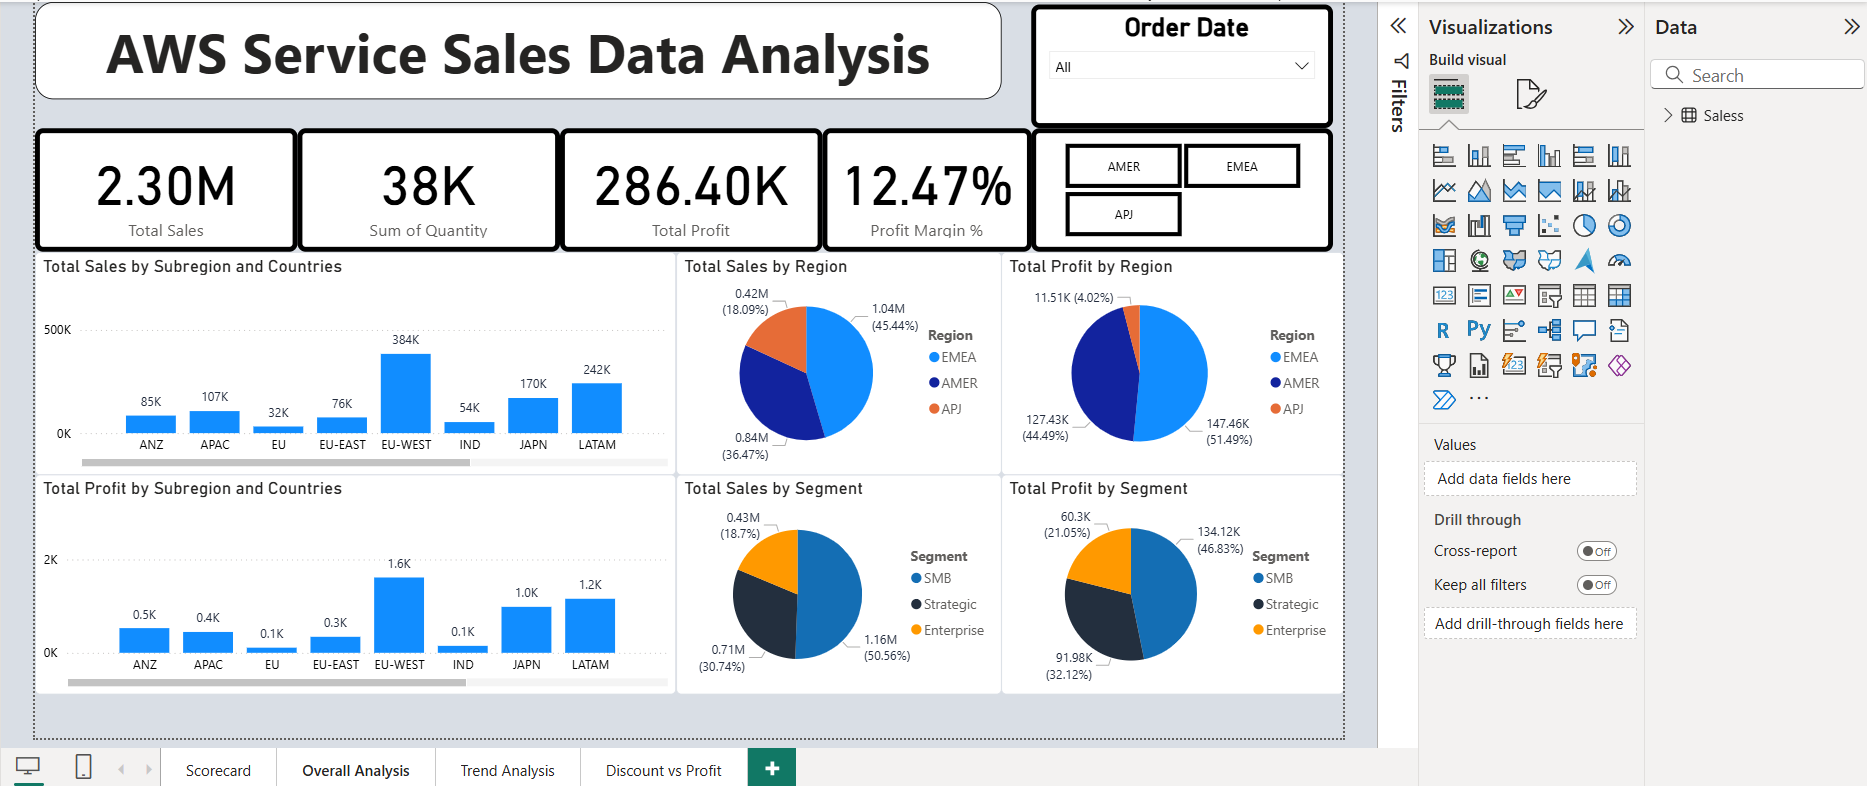

Layout of this report page (visuals, bound fields, positions):
{"tool":"powerbi","page":{"name":"Overall Analysis","canvas":[1280,720],"ordinal":1},"visuals":[{"type":"textbox","box":[0,0,974.3,123.5],"z":0},{"type":"card","title":"Total Sales","fields":{"Values":["Saless.Total Sales"]},"box":[0,123.5,256.6,120.8],"z":1000},{"type":"card","title":"Total Quantity","fields":{"Values":["Sum(Saless.Quantity)"]},"box":[256.6,123.5,256.6,120.8],"z":2000},{"type":"columnChart","title":"Total Sales by Subregion and Countries","fields":{"Category":["Saless.Subregion","Saless.Country"],"Y":["Sum(Saless.Sales)"]},"box":[0,244.3,627.1,218.2],"z":3000},{"type":"slicer","title":"Order Date","fields":{"Values":["Saless.Date Key.Variation.Date Hierarchy.Year","Saless.Date Key.Variation.Date Hierarchy.Quarter","Saless.Date Key.Variation.Date Hierarchy.Month","Saless.Date Key.Variation.Date Hierarchy.Day"]},"box":[974.3,2.7,295,120.8],"z":4000},{"type":"pieChart","title":"Total Sales by Segment","fields":{"Y":["Sum(Saless.Sales)"],"Category":["Saless.Segment"]},"box":[627.1,462.4,318.4,215.4],"z":5000},{"type":"pieChart","title":"Total Sales by Region","fields":{"Y":["Sum(Saless.Sales)"],"Category":["Saless.Region"]},"box":[627.1,244.3,318.4,218.2],"z":6000},{"type":"card","title":"Total Profit","fields":{"Values":["Saless.Total Profit"]},"box":[513.2,123.5,256.6,120.8],"z":7000},{"type":"columnChart","title":"Total Profit by Subregion and Countries","fields":{"Category":["Saless.Subregion","Saless.Country"],"Y":["CountNonNull(Saless.Profit)"]},"box":[0,462.4,627.1,215.4],"z":8000},{"type":"slicer","fields":{"Values":["Saless.Region"]},"box":[974.3,123.5,295,120.8],"z":11000},{"type":"card","fields":{"Values":["Saless.Profit Margin %"]},"box":[769.8,123.5,204.5,120.8],"z":12000},{"type":"pieChart","title":"Total Profit by Region","fields":{"Category":["Saless.Region"],"Y":["Sum(Saless.Profit)"]},"box":[945.2,244.3,334.8,218.2],"z":12001},{"type":"pieChart","title":"Total Sales by Segment","fields":{"Category":["Saless.Segment"],"Y":["Sum(Saless.Profit)"]},"box":[945.2,462.4,334.8,215.4],"z":12002}]}

Visuals, with their boxes on the page's 1280x720 design canvas (x1, y1, x2, y2). These are canvas units, not pixel positions in the 1867x786 screenshot, which may show the page scaled, cropped or inside an application window:
textbox: 0/0/974/124
"Total Sales" card: 0/124/257/244
"Total Quantity" card: 257/124/513/244
"Total Sales by Subregion and Countries" columnChart: 0/244/627/462
"Order Date" slicer: 974/3/1269/124
"Total Sales by Segment" pieChart: 627/462/946/678
"Total Sales by Region" pieChart: 627/244/946/462
"Total Profit" card: 513/124/770/244
"Total Profit by Subregion and Countries" columnChart: 0/462/627/678
slicer - Saless.Region: 974/124/1269/244
card - Saless.Profit Margin %: 770/124/974/244
"Total Profit by Region" pieChart: 945/244/1280/462
"Total Sales by Segment" pieChart: 945/462/1280/678
